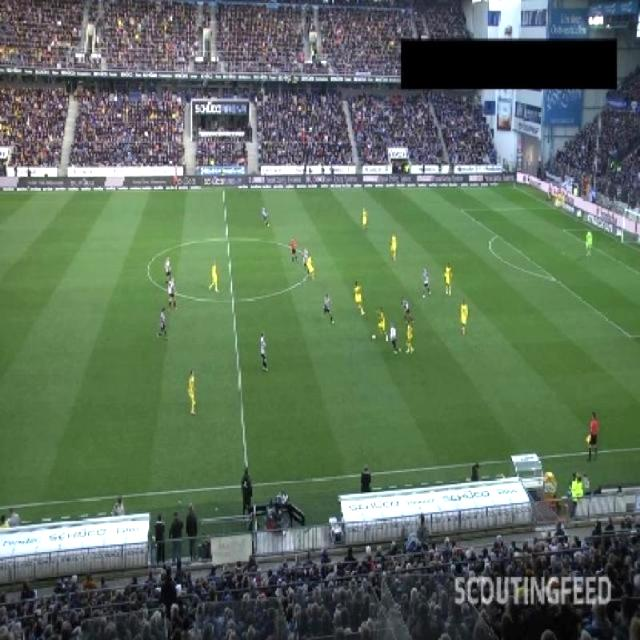bigarea_bottom_inner: (621, 327, 637, 344)
bigarea_top_inner: (454, 203, 466, 217)
bigarea_top_outter: (546, 198, 560, 213)
bottom_arc_area_intersection: (546, 270, 561, 286)
corner: (506, 179, 522, 192)
halfcircle_bottom: (222, 286, 242, 309)
halfcircle_top: (218, 226, 236, 248)
midline_top_intersection: (217, 182, 231, 196)
smallarea_top_inner: (557, 222, 572, 238)
smallarea_top_outter: (592, 224, 604, 235)
top_arc_area_intersection: (491, 230, 504, 242)
